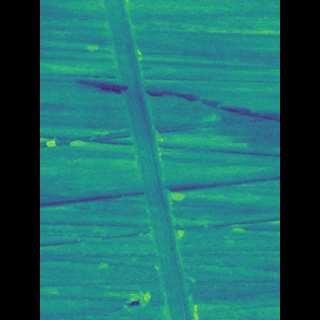Loch: (116, 0, 193, 320), (70, 46, 249, 84), (128, 286, 155, 319)
